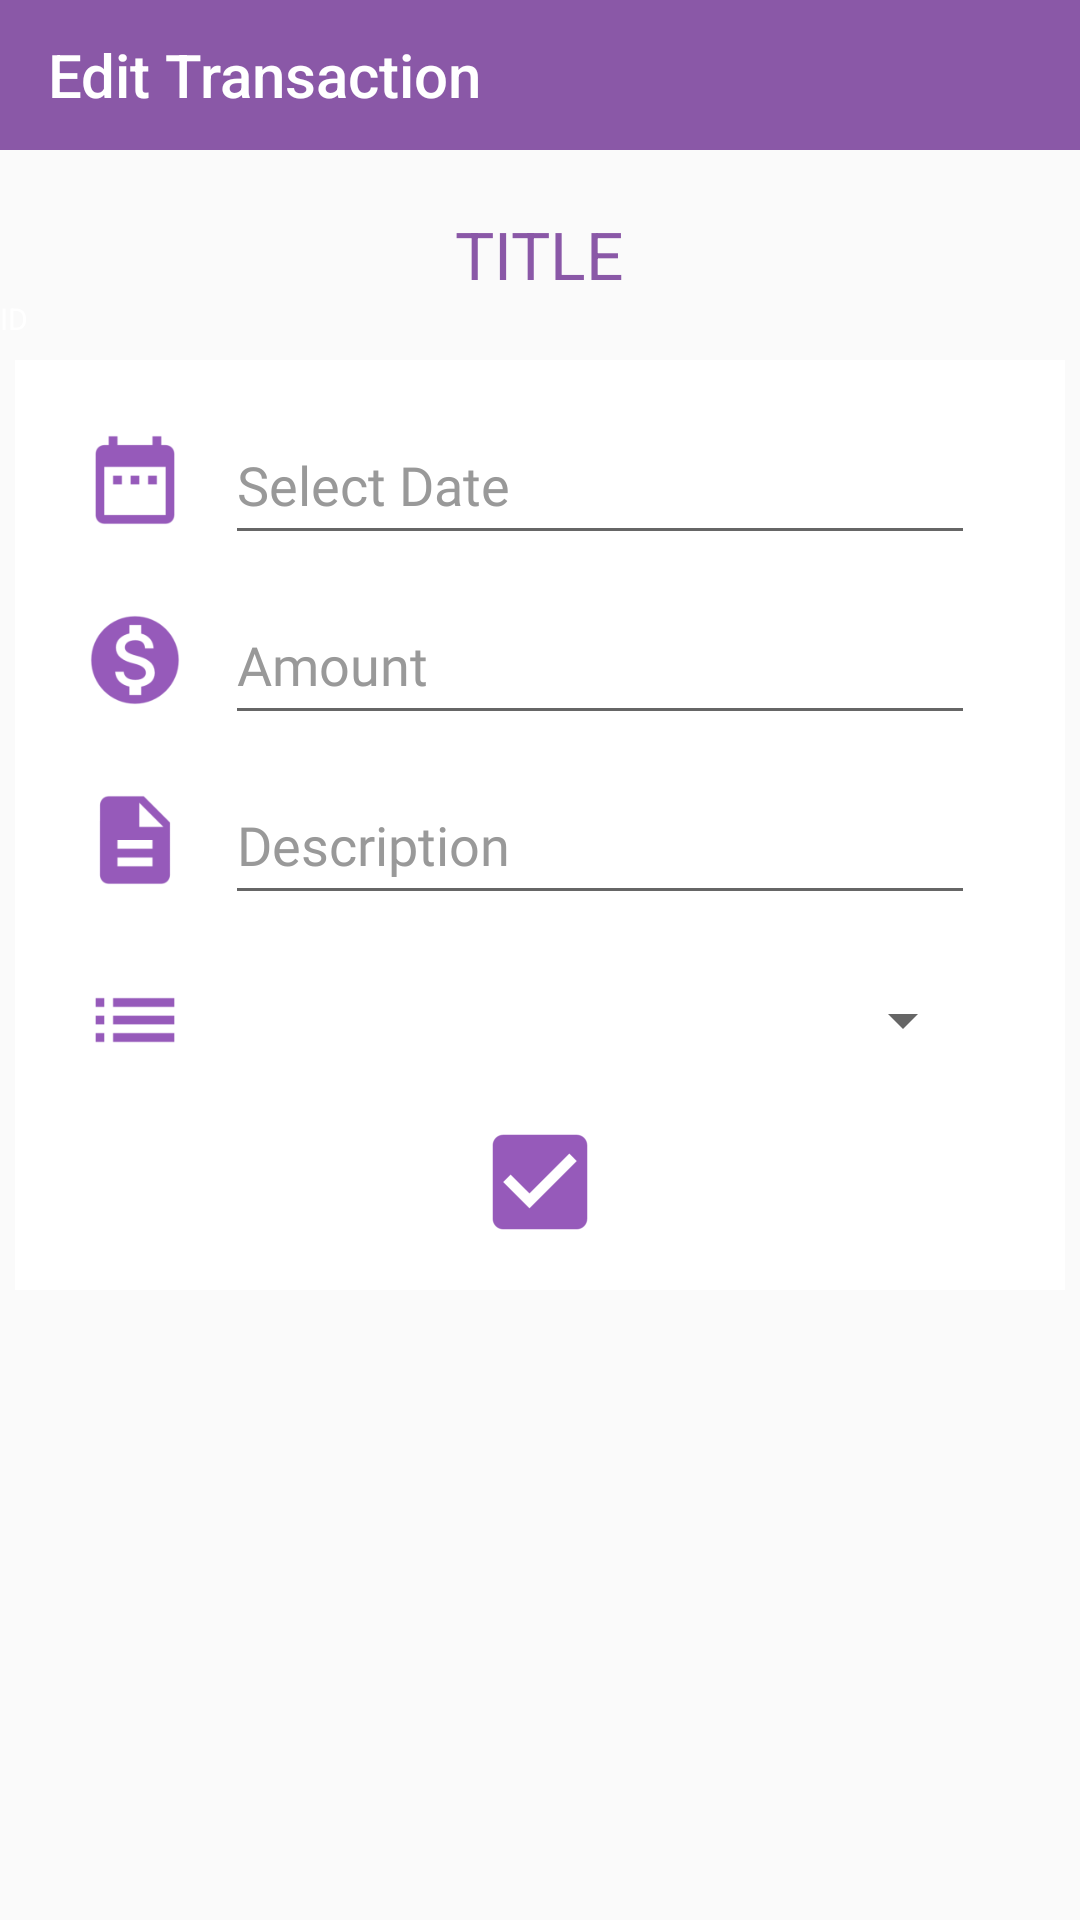

Icon click points for this 1080 x 1920 phone screenshot, format (x,y):
calendar: (135,480)
money: (135,660)
save: (540,1182)
